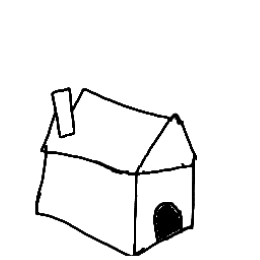bottom_placed_house: (3, 1, 260, 260)
chimney: (39, 77, 83, 140)
door: (144, 195, 193, 253)
roof: (26, 82, 222, 179)
wall: (127, 158, 203, 257)
